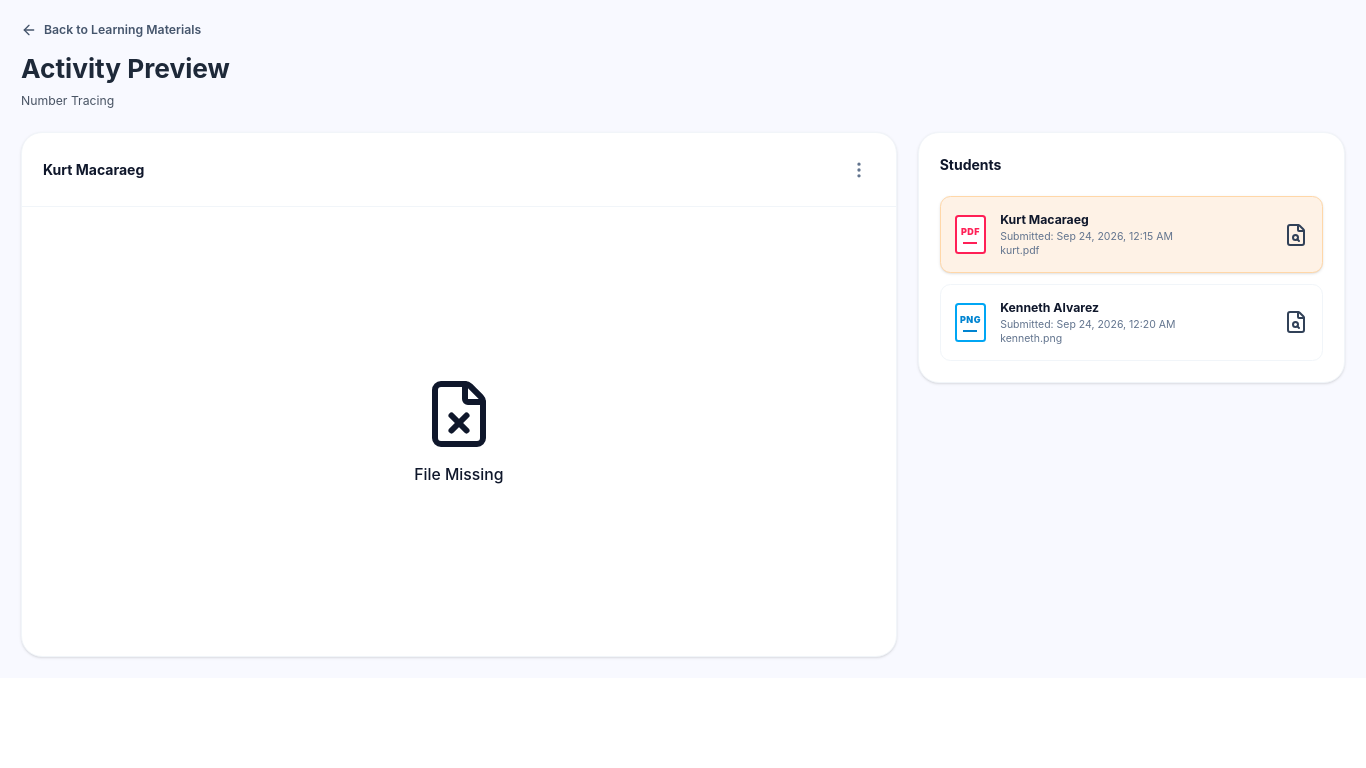
MaterialSubmissions page › shows 'File Missing' and disables Download/View File when the file is gone
Expected: the text "File Missing" is shown, [414,464,503,486]
Step 1. Click the button named "Open actions for Kurt Macaraeg's work" → (859, 170), box [843,154,875,185]
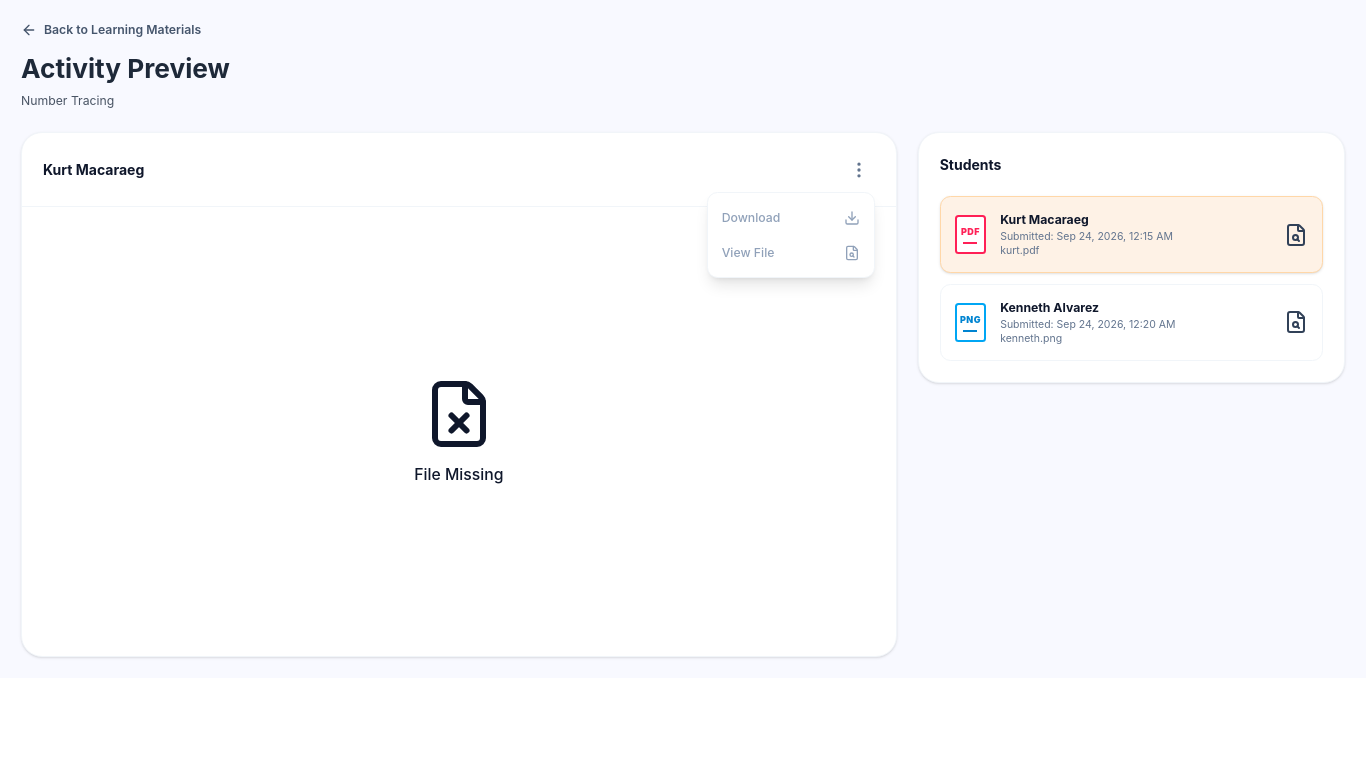
Expected: the menu item "Download" is disabled, [708,200,874,235]
Expected: the menu item "View File" is disabled, [708,235,874,270]
